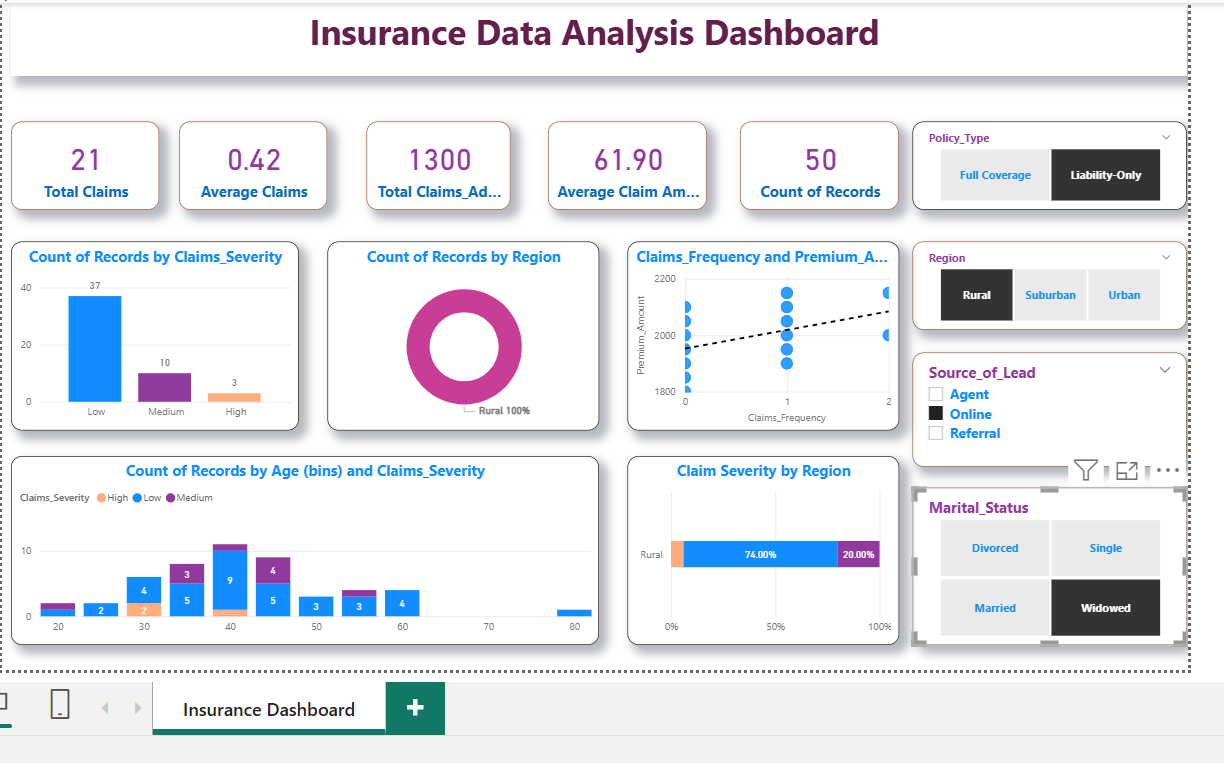

Layout of this report page (visuals, bound fields, positions):
{"tool":"powerbi","page":{"name":"Insurance Dashboard ","canvas":[1280,720],"ordinal":0},"visuals":[{"type":"textbox","box":[9.4,0,1269.9,79.4],"z":0},{"type":"card","fields":{"Values":["Sum(synthetic_insurance_data.Claims_Frequency)"]},"box":[9.7,127.9,160.3,95.5],"z":1000},{"type":"card","fields":{"Values":["Avg(synthetic_insurance_data.Claims_Frequency)"]},"box":[191.1,127.9,160.3,95.5],"z":2000},{"type":"card","fields":{"Values":["Sum(synthetic_insurance_data.Claims_Adjustment)"]},"box":[393.5,127.9,155.4,95.5],"z":3000},{"type":"columnChart","fields":{"Category":["synthetic_insurance_data.Claims_Severity"],"Y":["Count(synthetic_insurance_data.Index)"]},"box":[9.7,257.5,310.9,204],"z":4000},{"type":"columnChart","fields":{"Y":["Count(synthetic_insurance_data.Index)"],"Category":["synthetic_insurance_data.Age (bins)"],"Series":["synthetic_insurance_data.Claims_Severity"]},"box":[9.7,489,634.7,204],"z":5000},{"type":"donutChart","fields":{"Y":["Count(synthetic_insurance_data.Index)"],"Category":["synthetic_insurance_data.Region"]},"box":[351.4,257.5,293.1,204],"z":6000},{"type":"hundredPercentStackedBarChart","title":"Claim Severity by Region","fields":{"Category":["synthetic_insurance_data.Region"],"Y":["Count(synthetic_insurance_data.Index)"],"Series":["synthetic_insurance_data.Claims_Severity"]},"box":[675.2,489,293.1,204],"z":7000},{"type":"card","fields":{"Values":["synthetic_insurance_data.Average Claim Amount"]},"box":[589.4,127.9,171.6,95.5],"z":8000},{"type":"scatterChart","fields":{"X":["synthetic_insurance_data.Claims_Frequency"],"Y":["synthetic_insurance_data.Premium_Amount"]},"box":[675.2,257.5,293.1,204],"z":9000},{"type":"slicer","fields":{"Values":["synthetic_insurance_data.Policy_Type"]},"box":[982.9,127.9,296.3,95.5],"z":10000},{"type":"card","fields":{"Values":["Count(synthetic_insurance_data.Index)"]},"box":[796.7,127.9,171.6,95.5],"z":11000},{"type":"slicer","fields":{"Values":["synthetic_insurance_data.Region"]},"box":[982.9,257.5,296.3,95.5],"z":12000},{"type":"slicer","fields":{"Values":["synthetic_insurance_data.Marital_Status"]},"box":[982.9,523,296.3,170],"z":13000},{"type":"slicer","fields":{"Values":["synthetic_insurance_data.Source_of_Lead"]},"box":[982.9,377.3,296.3,123.1],"z":14000}]}

Visuals, with their boxes in screenshot pixels (x1, y1, x2, y2):
textbox: [0, 0, 1190, 72]
card - Sum(synthetic_insurance_data.Claims_Frequency): [0, 117, 144, 207]
card - Avg(synthetic_insurance_data.Claims_Frequency): [164, 117, 315, 207]
card - Sum(synthetic_insurance_data.Claims_Adjustment): [355, 117, 502, 207]
columnChart - synthetic_insurance_data.Claims_Severity x Count(synthetic_insurance_data.Index): [0, 240, 286, 432]
columnChart - Count(synthetic_insurance_data.Index) x synthetic_insurance_data.Age (bins): [0, 458, 592, 650]
donutChart - Count(synthetic_insurance_data.Index) x synthetic_insurance_data.Region: [315, 240, 592, 432]
"Claim Severity by Region" hundredPercentStackedBarChart: [621, 458, 897, 650]
card - synthetic_insurance_data.Average Claim Amount: [540, 117, 702, 207]
scatterChart - synthetic_insurance_data.Claims_Frequency x synthetic_insurance_data.Premium_Amount: [621, 240, 897, 432]
slicer - synthetic_insurance_data.Policy_Type: [911, 117, 1190, 207]
card - Count(synthetic_insurance_data.Index): [735, 117, 897, 207]
slicer - synthetic_insurance_data.Region: [911, 240, 1190, 330]
slicer - synthetic_insurance_data.Marital_Status: [911, 490, 1190, 650]
slicer - synthetic_insurance_data.Source_of_Lead: [911, 353, 1190, 469]
